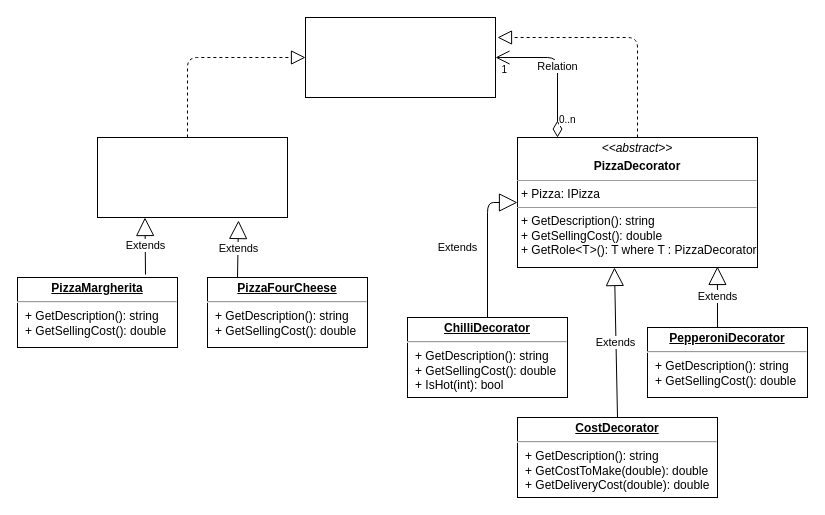
Some shapes in this 825 by 515 pixel diagram are drawn without their labels. Each missing label, with the box of its shape:
<<abstract>> Pizza + GetDescription(): string + GetSellingCost(): double: (96, 136, 288, 218)
<<Interface>> IPizza + GetDescription(): string + GetSellingCost(): double: (304, 16, 496, 98)
